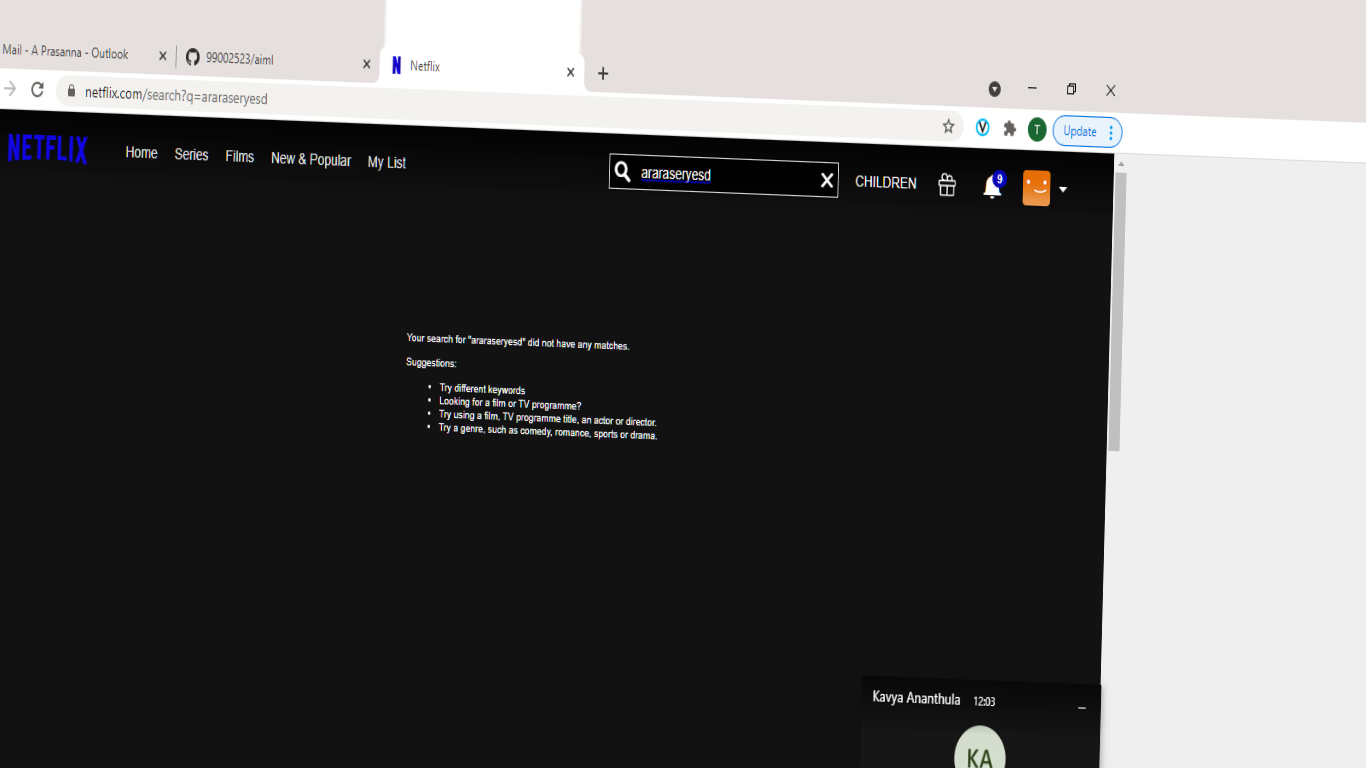mywatchlistbutton: (360, 149, 435, 188)
noresultsfound: (383, 305, 689, 452)
profileicon: (1020, 162, 1068, 218)
searchicon: (609, 151, 634, 188)
searchtextbox: (601, 140, 861, 214)
